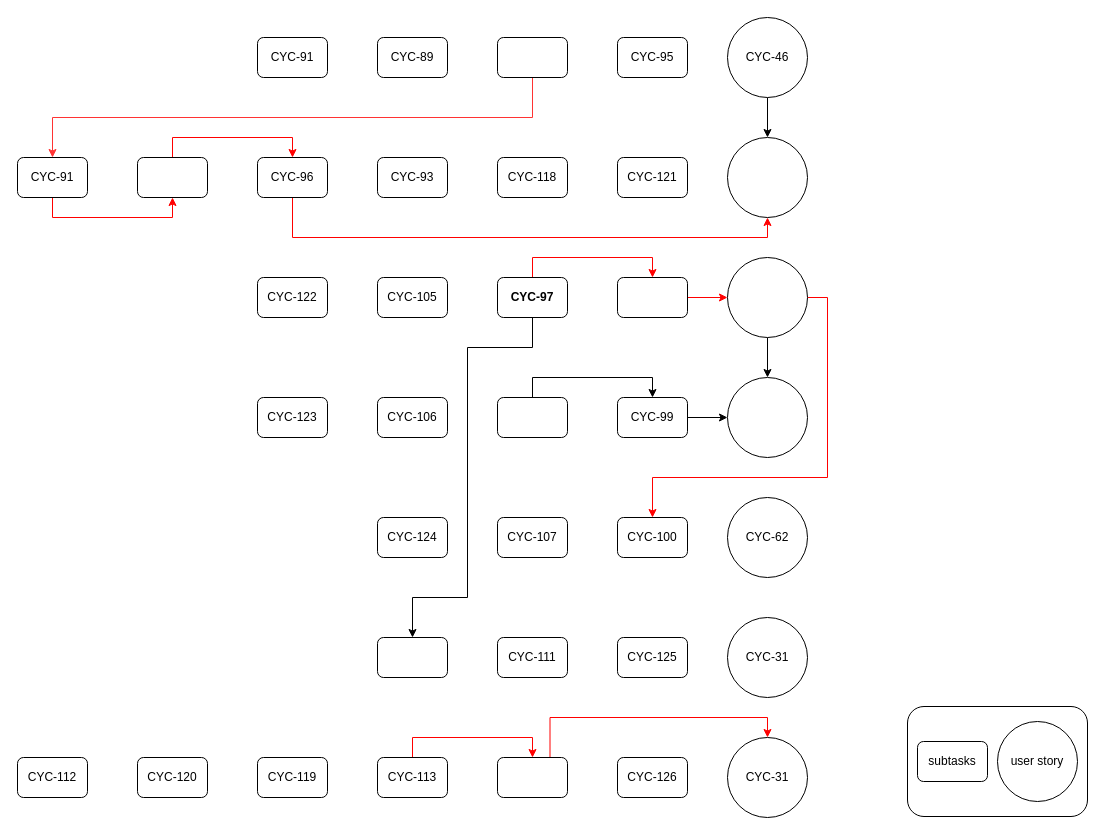
Some shapes in this 1105 by 835 pixel diagram are drawn without their labels. Here are the shapes that lost their labels. From the top down, the centre of each, then its label:
At [532,57]: "CYC-88".
At [172,177]: "CYC-92".
At [767,177]: "CYC-47".
At [652,297]: "CYC-94".
At [767,297]: "CYC-58".
At [532,417]: "CYC-98".
At [767,417]: "CYC-59".
At [412,657]: "CYC-109".
At [532,777]: "CYC-114".
